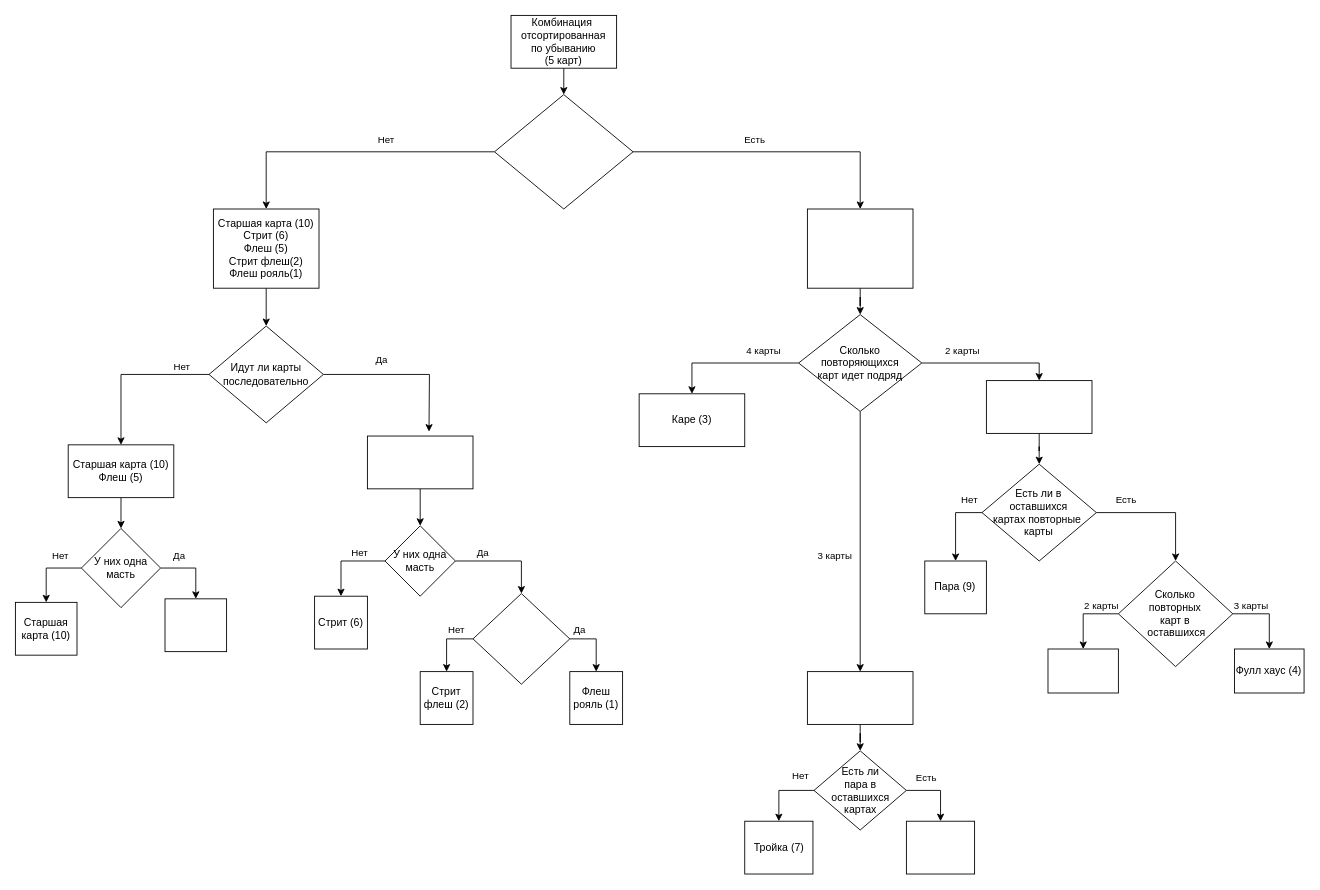
This 1320x890 diagram has some shape labels left out. Here are the shapes that lost their labels. From the top down, the centre of each, then its label:
(x=563, y=151): Есть ли в колоде карты одной ценности (есть ли пара)
(x=860, y=248): Пара (9) 2 пары (8) Сет (тройка) (7) Фулл хаус (4) Каре (3)
(x=1039, y=406): Пара (9) Две пары (8) Фулл хаус (4)
(x=420, y=462): Стрит (6) Стрит флеш (2) Флеш рояль (1)
(x=195, y=625): Флеш (5)
(x=521, y=638): Старшие карты (туз - > 10)
(x=1082, y=670): Две пары (8)
(x=860, y=697): Тройка (7) Фулл хаус (4)
(x=940, y=847): Фулл хаус(4)
